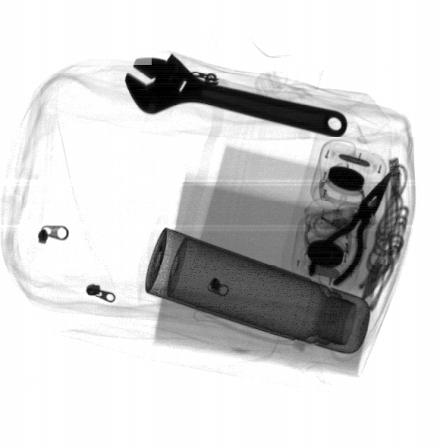Pliers: (305, 171, 392, 289)
Wrench: (123, 50, 347, 139)
